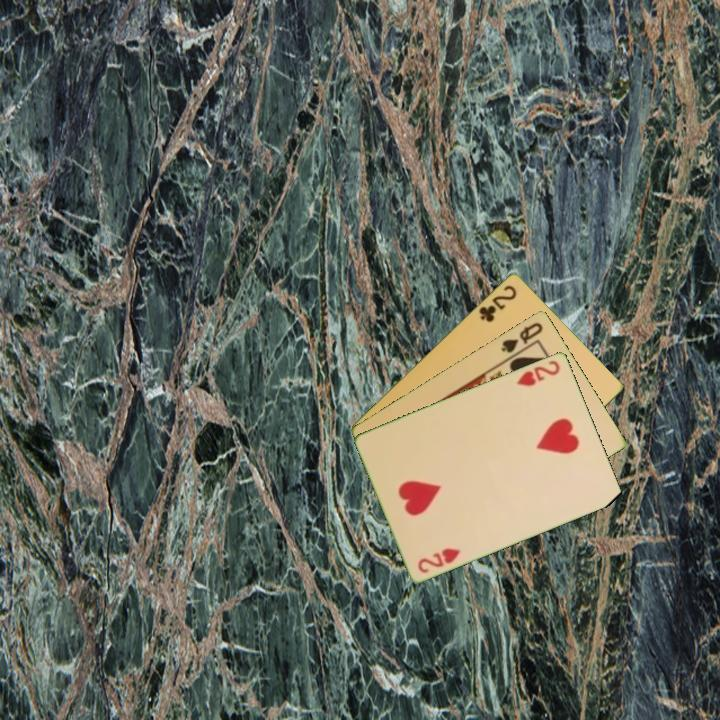2c: (475, 281, 520, 325)
2h: (513, 356, 563, 389), (414, 544, 463, 576)
Qs: (497, 318, 546, 356)
